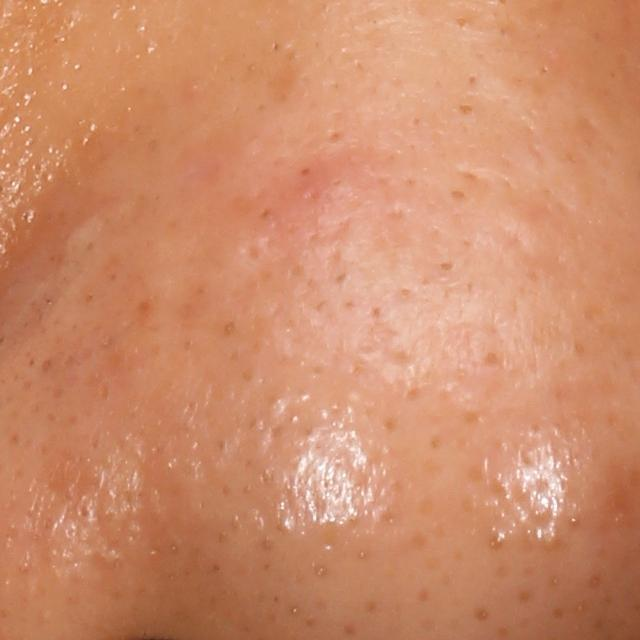comedo: (323, 124, 347, 148), (432, 255, 460, 275), (445, 185, 469, 207)
